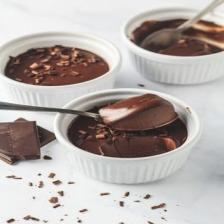brown: (5, 45, 108, 86)
